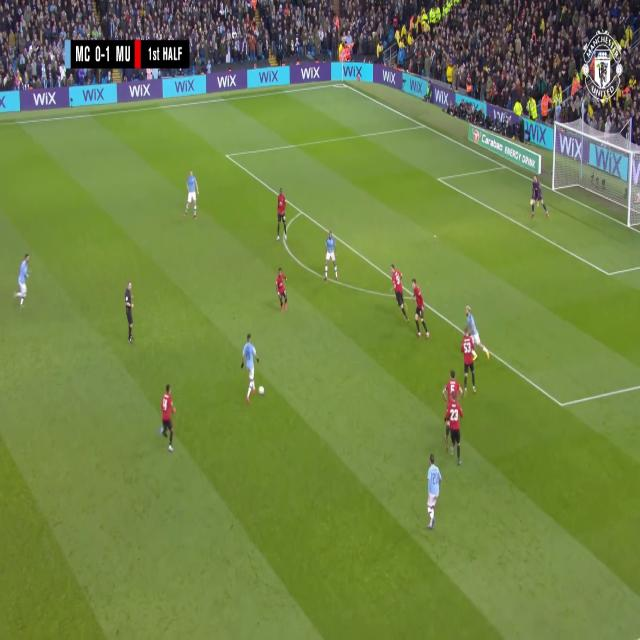ball: (258, 384, 264, 398)
team1: (460, 333, 483, 397), (159, 383, 177, 453), (447, 394, 463, 466), (390, 263, 410, 318), (411, 280, 427, 340), (276, 189, 288, 246), (443, 365, 462, 398), (276, 267, 288, 312)
team2: (426, 456, 444, 530), (240, 334, 259, 404), (462, 305, 486, 354), (124, 273, 139, 350), (14, 253, 31, 310), (323, 231, 338, 283), (185, 171, 200, 220)
